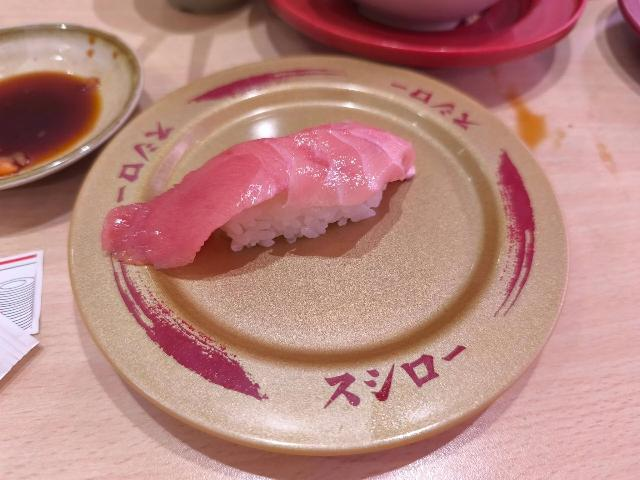jangold: (83, 92, 539, 401)
janred: (286, 0, 581, 83), (603, 0, 640, 44)
